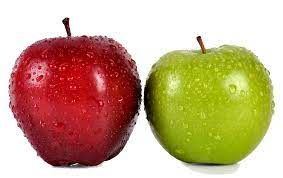apple: (143, 49, 275, 164)
